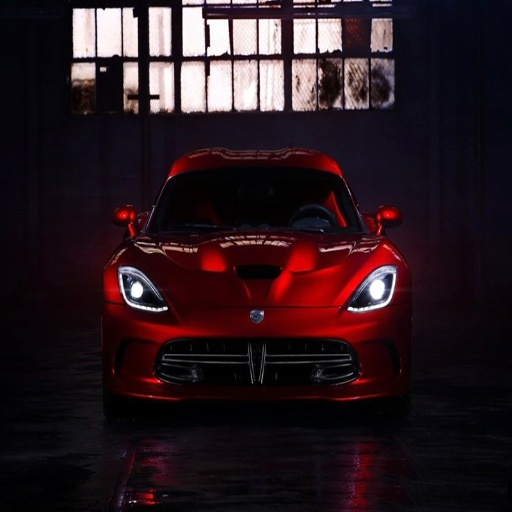back_bumper: (107, 303, 371, 398)
front_bumper: (346, 307, 407, 398)
hood: (320, 233, 387, 303)
